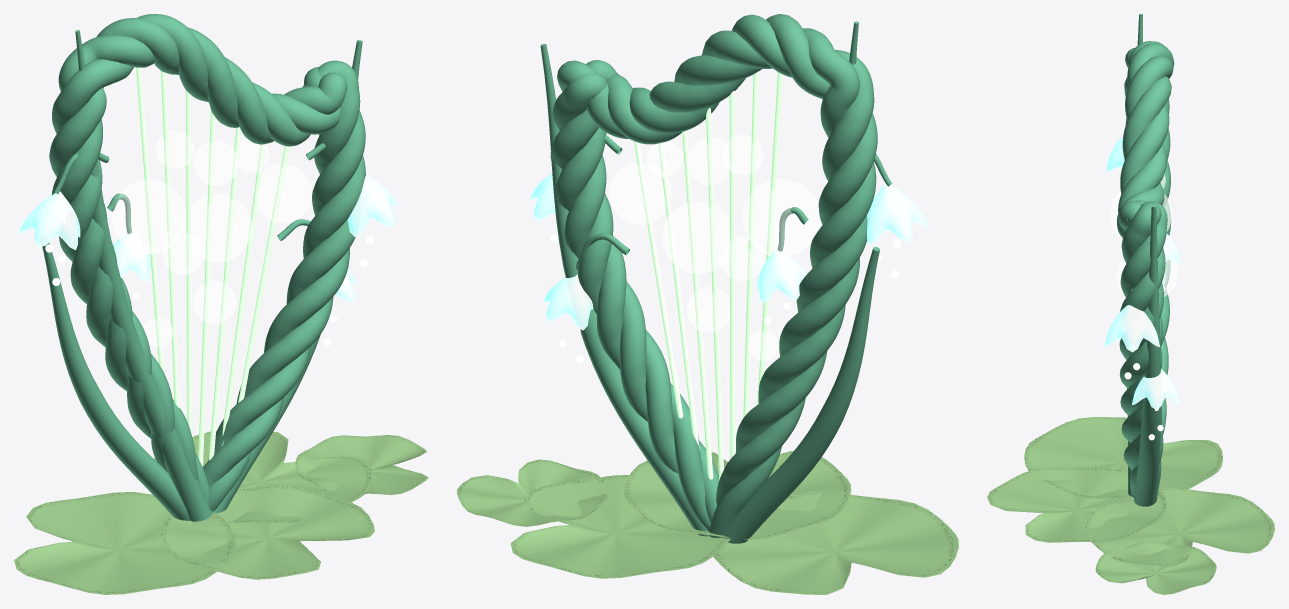
Rendered from plant-melody-reed.glb.
3 renders of one model, left to right at view 1: azimuth 30°, elevation 25°; view 2: azimuth 150°, elevation 25°; view 3: azimuth 270°, elevation 25°, orthographic. The views are drawn at different scales.
Parts seen in each view (by area): view 1: Reed_BraidStrand_2, Reed_BraidStrand_0, Reed_BraidStrand_1, Reed_LilyPad_0, Reed_LilyPad_1, Reed_Blade_0, Reed_Blade_1, Reed_LilyPad_2, Reed_LilyPad_3, Reed_Bubble_0, Reed_Bubble_4, Reed_Bubble_7 (+17 smaller); view 2: Reed_BraidStrand_2, Reed_BraidStrand_1, Reed_BraidStrand_0, Reed_LilyPad_0, Reed_LilyPad_2, Reed_Blade_0, Reed_LilyPad_1, Reed_Blade_2, Reed_LilyPad_3, Reed_Bubble_0, Reed_Bubble_4, Reed_Bubble_7 (+17 smaller); view 3: Reed_LilyPad_1, Reed_LilyPad_2, Reed_LilyPad_0, Reed_BraidStrand_2, Reed_BraidStrand_0, Reed_BraidStrand_1, Reed_LilyPad_3, Reed_Blade_2, Reed_BellFlower_2, Reed_BellFlower_3, Reed_Bubble_4, Reed_Bubble_0 (+1 smaller).
Boxes of the visible parts, x1,y1,x2,y2 form: Reed_BraidStrand_2: (51, 27, 365, 487); Reed_BraidStrand_0: (52, 14, 360, 483); Reed_BraidStrand_1: (49, 18, 365, 514); Reed_LilyPad_0: (14, 492, 237, 594); Reed_LilyPad_1: (160, 485, 374, 579); Reed_Blade_0: (42, 242, 189, 520); Reed_Blade_1: (75, 30, 210, 521); Reed_LilyPad_2: (154, 431, 372, 523); Reed_LilyPad_3: (295, 435, 428, 494); Reed_Bubble_0: (111, 179, 186, 253); Reed_Bubble_4: (183, 193, 251, 262); Reed_Bubble_7: (253, 164, 312, 222); Reed_BraidStrand_2: (552, 28, 876, 537); Reed_BraidStrand_1: (550, 14, 877, 505); Reed_BraidStrand_0: (555, 14, 874, 530); Reed_LilyPad_0: (711, 491, 958, 594); Reed_LilyPad_2: (510, 475, 730, 578); Reed_Blade_0: (722, 247, 879, 543); Reed_LilyPad_1: (624, 451, 851, 539); Reed_Blade_2: (540, 44, 709, 536); Reed_LilyPad_3: (457, 459, 608, 526); Reed_Bubble_0: (742, 178, 820, 255); Reed_Bubble_4: (662, 201, 730, 273); Reed_Bubble_7: (609, 162, 671, 224); Reed_LilyPad_1: (987, 467, 1166, 542); Reed_LilyPad_2: (1085, 487, 1274, 566); Reed_LilyPad_0: (1024, 417, 1222, 498); Reed_BraidStrand_2: (1117, 41, 1171, 494); Reed_BraidStrand_0: (1118, 48, 1173, 488); Reed_BraidStrand_1: (1118, 43, 1174, 497); Reed_LilyPad_3: (1095, 541, 1216, 594); Reed_Blade_2: (1134, 204, 1161, 506); Reed_BellFlower_2: (1104, 305, 1159, 352); Reed_BellFlower_3: (1132, 369, 1180, 409); Reed_Bubble_4: (1121, 246, 1178, 296); Reed_Bubble_0: (1109, 191, 1172, 239).
Size of the model in its own units: 1.93 by 2.24 by 1.33.
